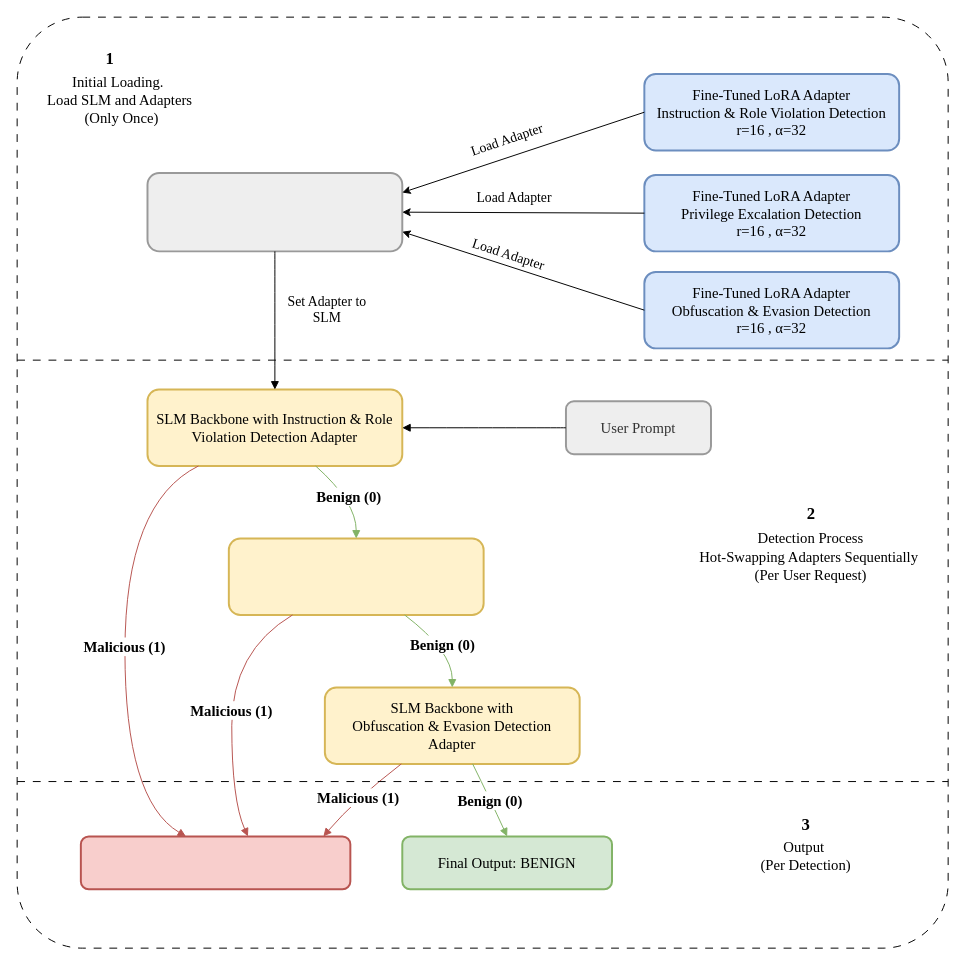
Image size: 966x965. Some labels were removed from this diagram. The shapes that lost their labels are listed below. From the top down, each one's centre as x and y in pixels, then its label:
the point at 274,212: SLM Backbone (Gemma3-1B-it) QLoRA | 4-bit NF4
the point at 355,576: SLM Backbone with Privilege Excalation Detection Adapter
the point at 215,862: Final Output: Injection Detected
